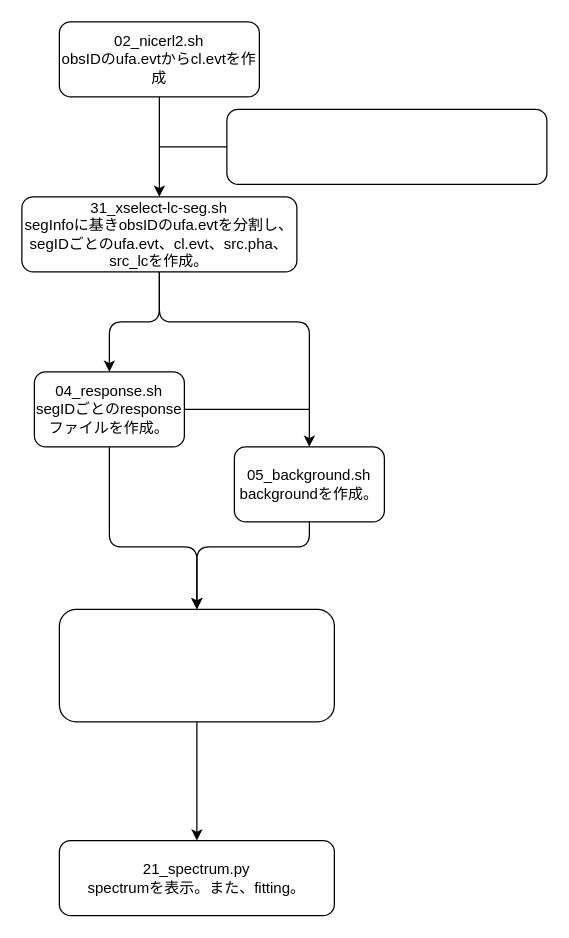
Image size: 569x938. Some labels were removed from this diagram. The shapes that lost their labels are listed below. From the top down, each one's centre as x and y in pixels, then its label:
pixel 386 146: segInfo.csv obsIDをGTIごとに切ったsegmentについての情報(time filter txtの場所、START、STOP)が記載
pixel 196 665: 20_merge-grp.py grpphaでbinまとめをし、addascaspecにてgroupごとに各ファイルを統合。
